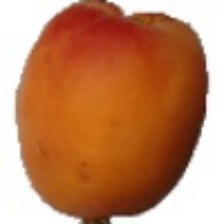apricot: (39, 58, 206, 209)
